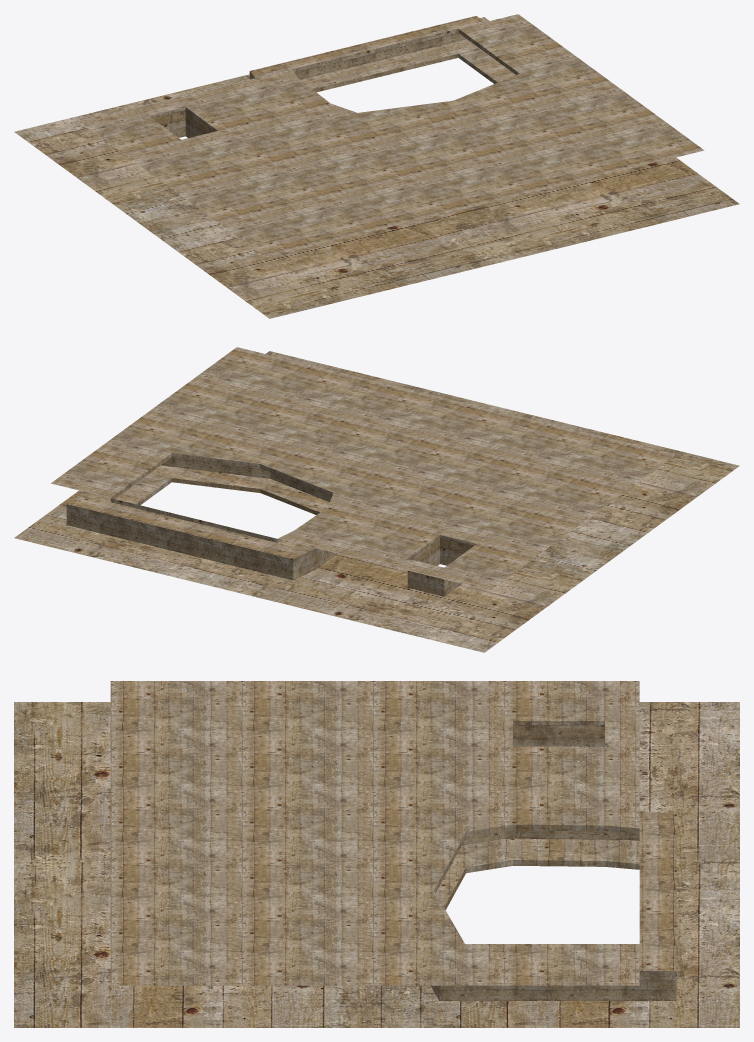
File: Church_TowerRoom_Floor.fbx
The picture shows the model from 3 angles, top to bottom: view 1: azimuth 30°, elevation 25°; view 2: azimuth 150°, elevation 25°; view 3: azimuth 270°, elevation 25°; orthographic projection. The views are drawn at different scales.
Visible parts, largest first — view 1: Church_TowerRoom_Floor; view 2: Church_TowerRoom_Floor; view 3: Church_TowerRoom_Floor.
Part boxes in pixels (box(x1,y1,x2,y2)): Church_TowerRoom_Floor: box(14, 14, 739, 318); Church_TowerRoom_Floor: box(14, 347, 739, 652); Church_TowerRoom_Floor: box(14, 681, 739, 1027).
Size of the model in its own units: 17 by 1.01 by 16.
